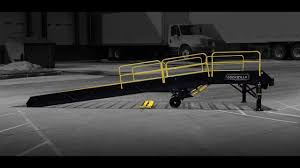Yard Ramp: (27, 48, 277, 113)
